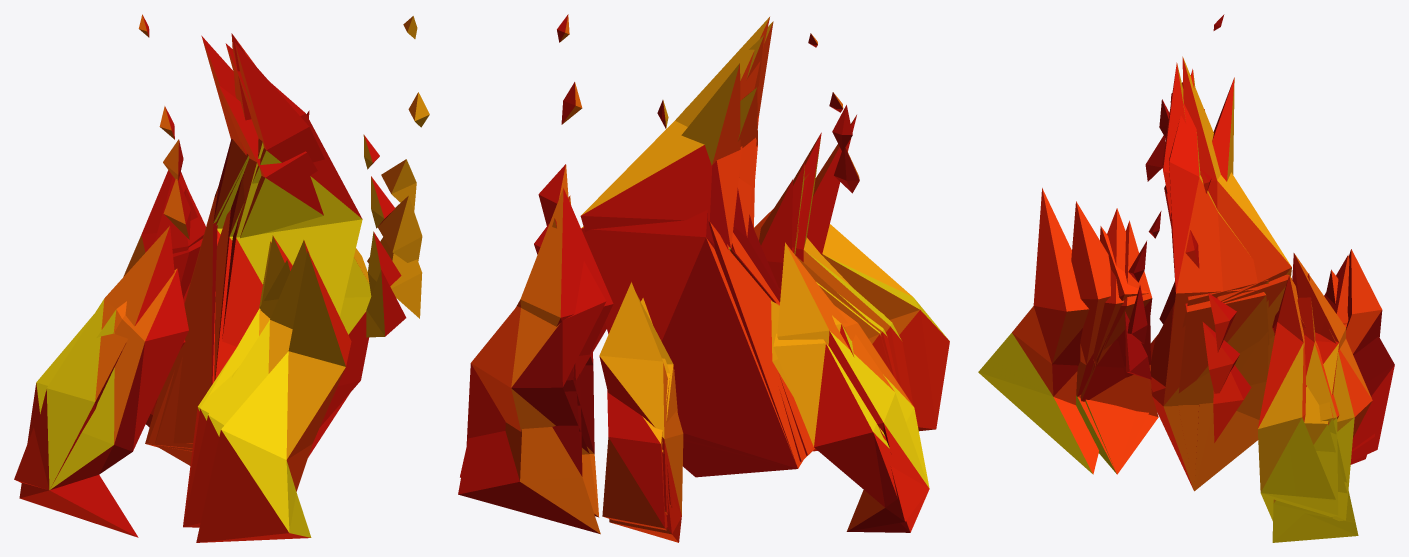
File: Bonfire_Fire.FBX
3 views of the same model, side by side, from view 1: azimuth 30°, elevation 25°; view 2: azimuth 150°, elevation 25°; view 3: azimuth 270°, elevation 25° (orthographic). The views are drawn at different scales.
Visible parts, largest first — view 1: Object043, Object048, Object044, Object046, Object045; view 2: Object045, Object044, Object043, Object046, Object048; view 3: Object043, Object046, Object048, Object044, Object045.
Boxes of the visible parts, x1,y1,x2,y2 form: Object043: (19, 43, 422, 542); Object048: (15, 16, 417, 537); Object044: (19, 85, 422, 526); Object046: (96, 14, 429, 522); Object045: (14, 35, 416, 525); Object045: (466, 63, 929, 521); Object044: (458, 87, 929, 534); Object043: (460, 35, 949, 542); Object046: (552, 17, 904, 531); Object048: (557, 14, 929, 514); Object043: (978, 69, 1366, 542); Object046: (1086, 14, 1339, 520); Object048: (1080, 62, 1335, 500); Object044: (1071, 99, 1394, 542); Object045: (1085, 77, 1382, 521).
Bounding box in the file's own units: 49.51 × 64.37 × 53.74.
